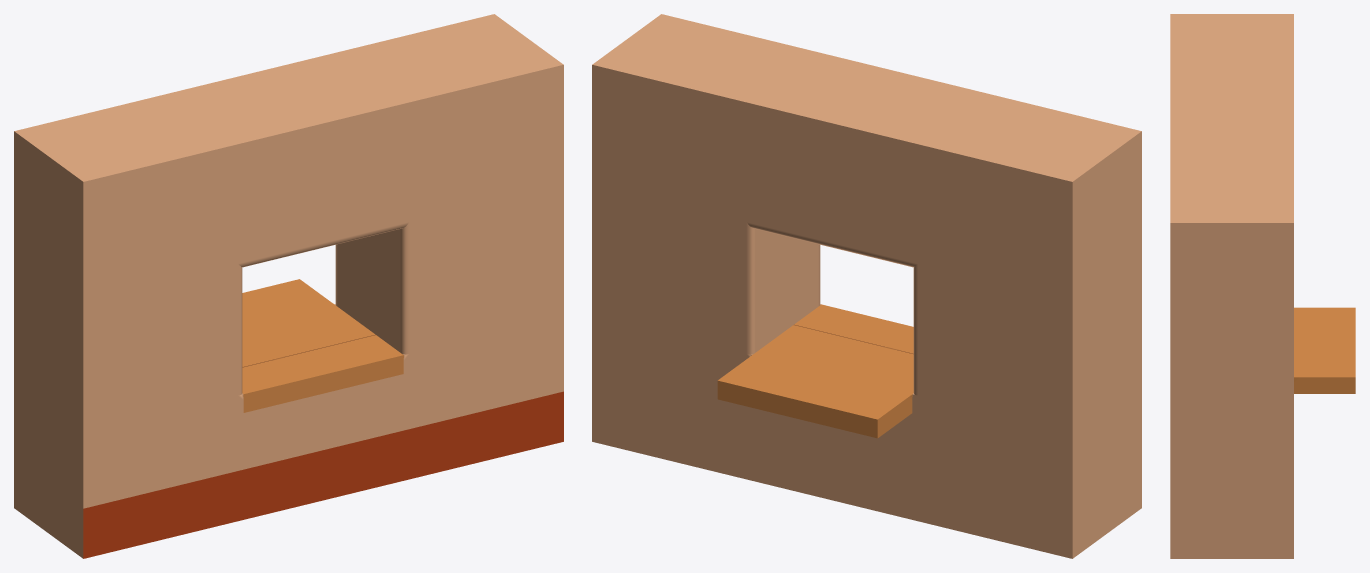
File: parededrivethru.fbx
The picture shows the model from 3 angles, left to right: view 1: azimuth 30°, elevation 25°; view 2: azimuth 150°, elevation 25°; view 3: azimuth 270°, elevation 25°; orthographic projection. The views are drawn at different scales.
Parts seen in each view (by area): view 1: parede do drive; view 2: parede do drive; view 3: parede do drive.
Part boxes in pixels (x1,y1,x2,y2): parede do drive: (14,14,563,558); parede do drive: (592,14,1141,558); parede do drive: (1170,14,1355,558).
Size of the model in its own units: 4 by 1.5 by 3.
3 materials, 2 textured.
